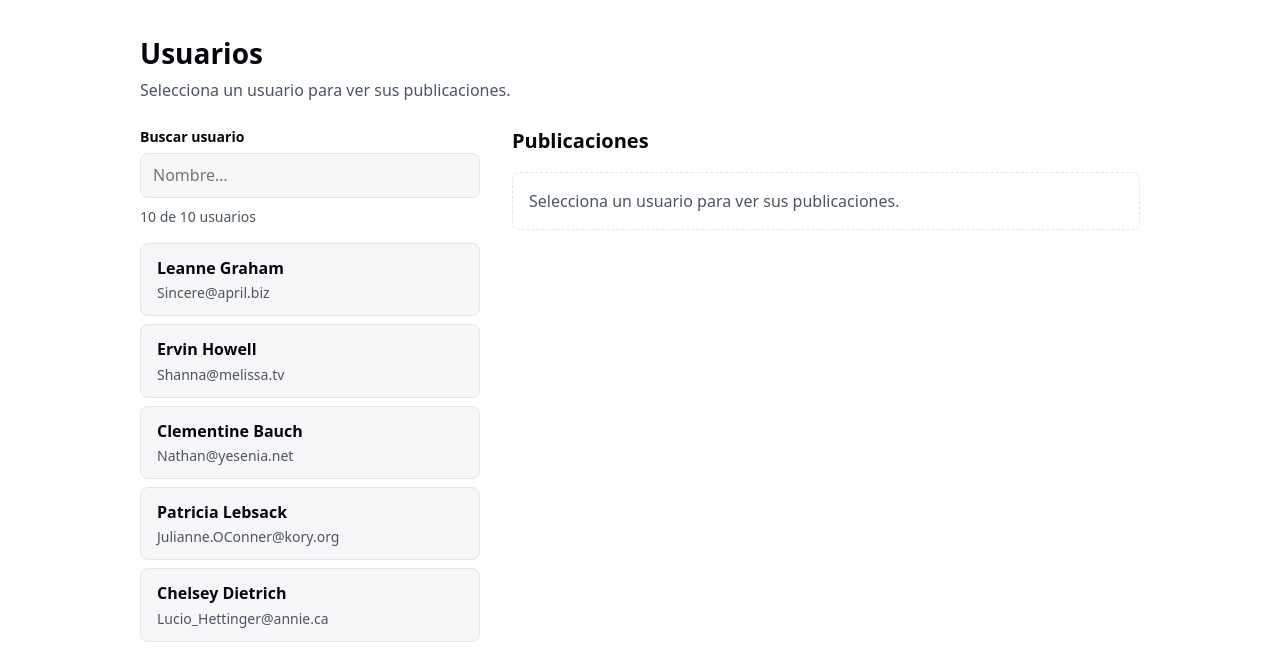
Test: formulario de publicación › crea la publicación y la coloca la primera
Click the button "Leanne Graham Sincere@april.biz" at (220, 268), box [140,243,480,316]
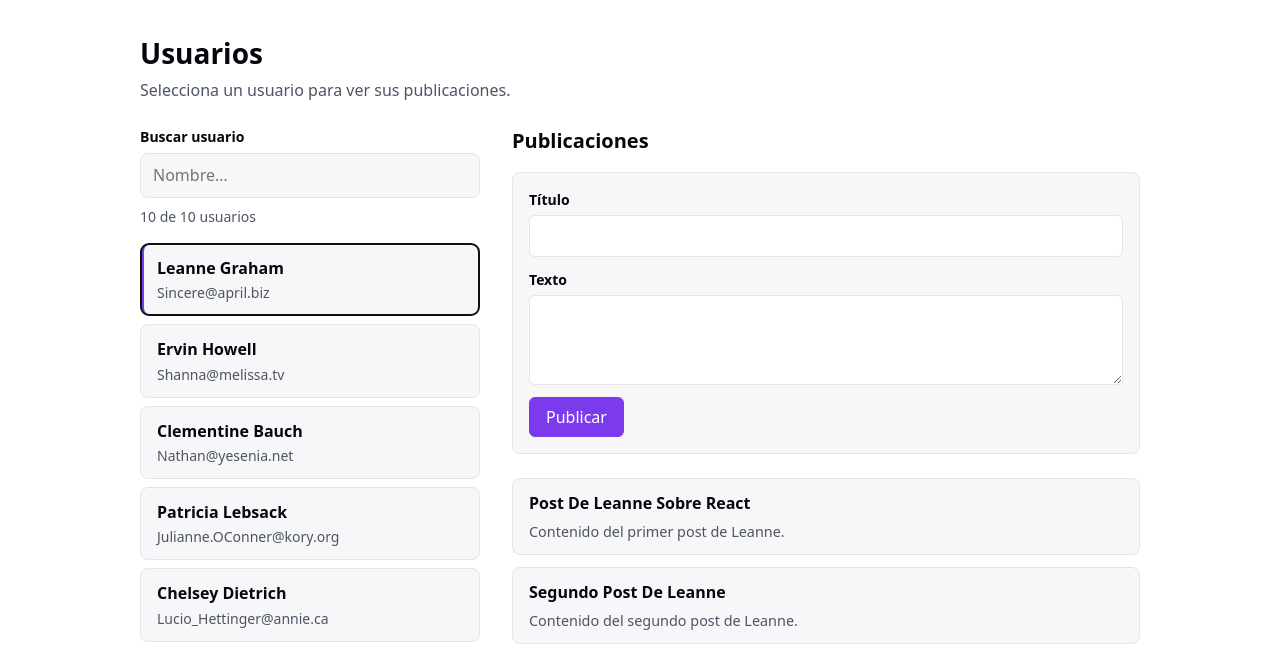
Result: the heading "Post de Leanne sobre React" is shown at [529,492,750,514]
Type "Mi primer post" into the field labelled "Título" at (826, 236), box [529,215,1123,257]
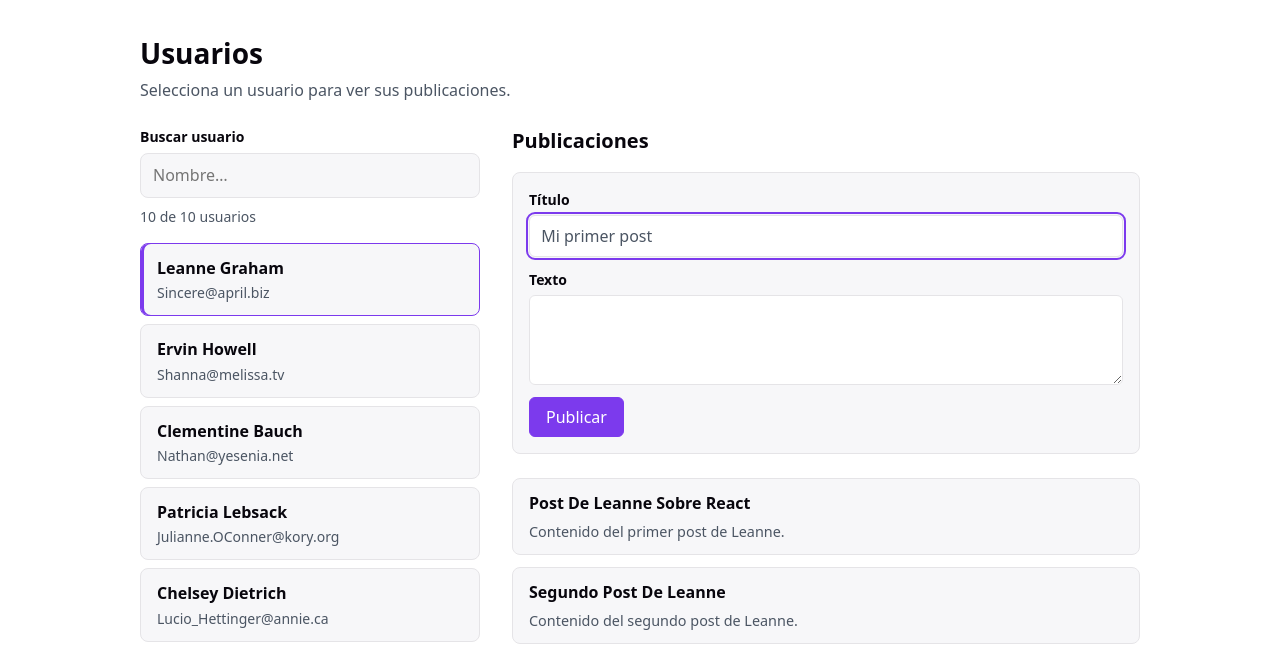
Type "Contenido de prueba" into the text box labelled "Texto" at (826, 340), box [529,295,1123,385]
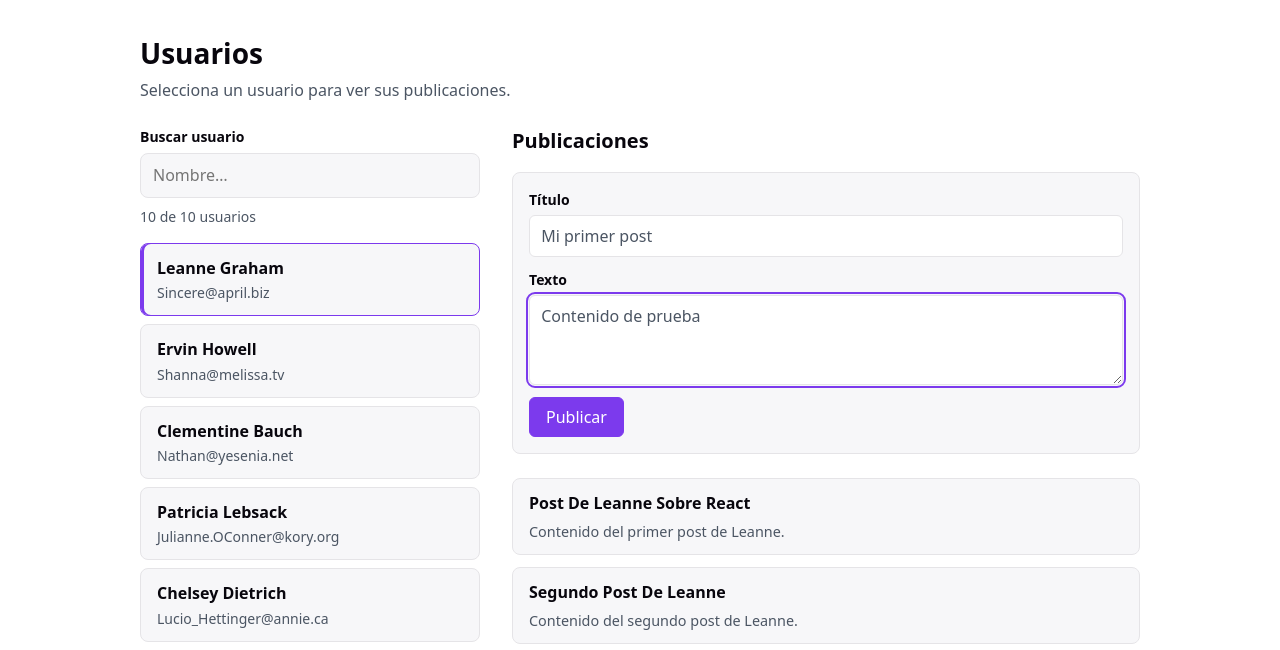
Click the button "Publicar" at (576, 417), box [529,397,624,437]
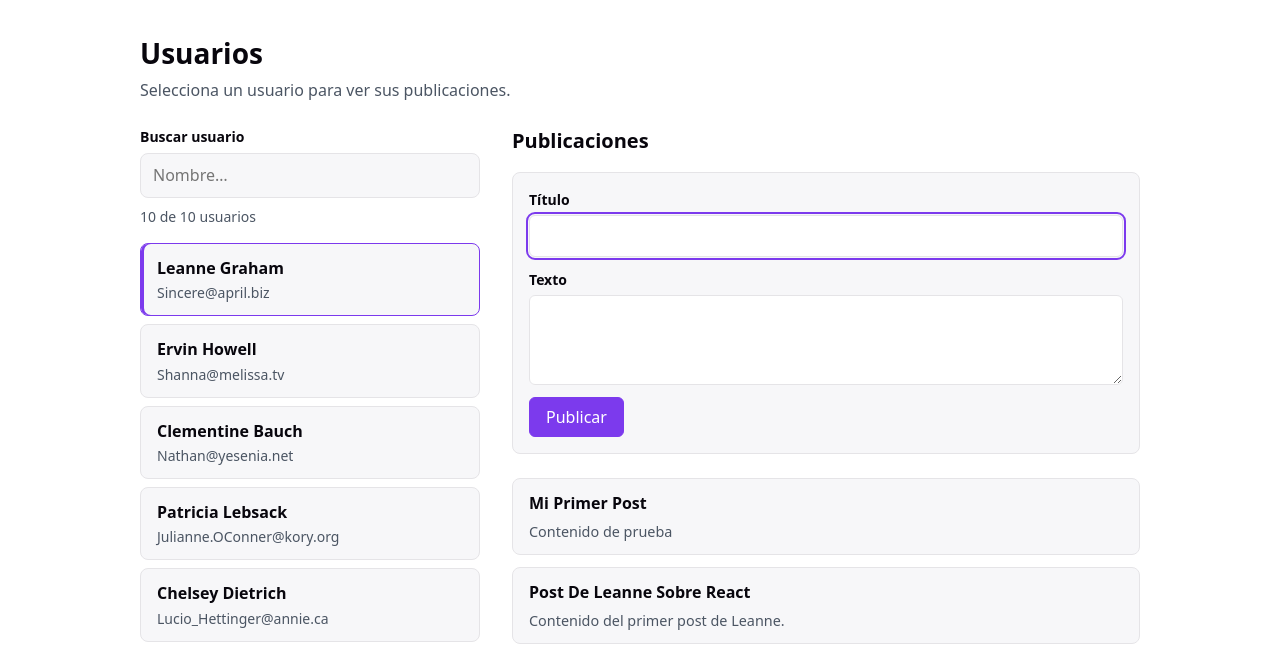
Result: the list item "Mi primer post Contenido de prueba" is shown at [512,478,1140,555]
Result: the field labelled "Título" is empty at [529,215,1123,257]
